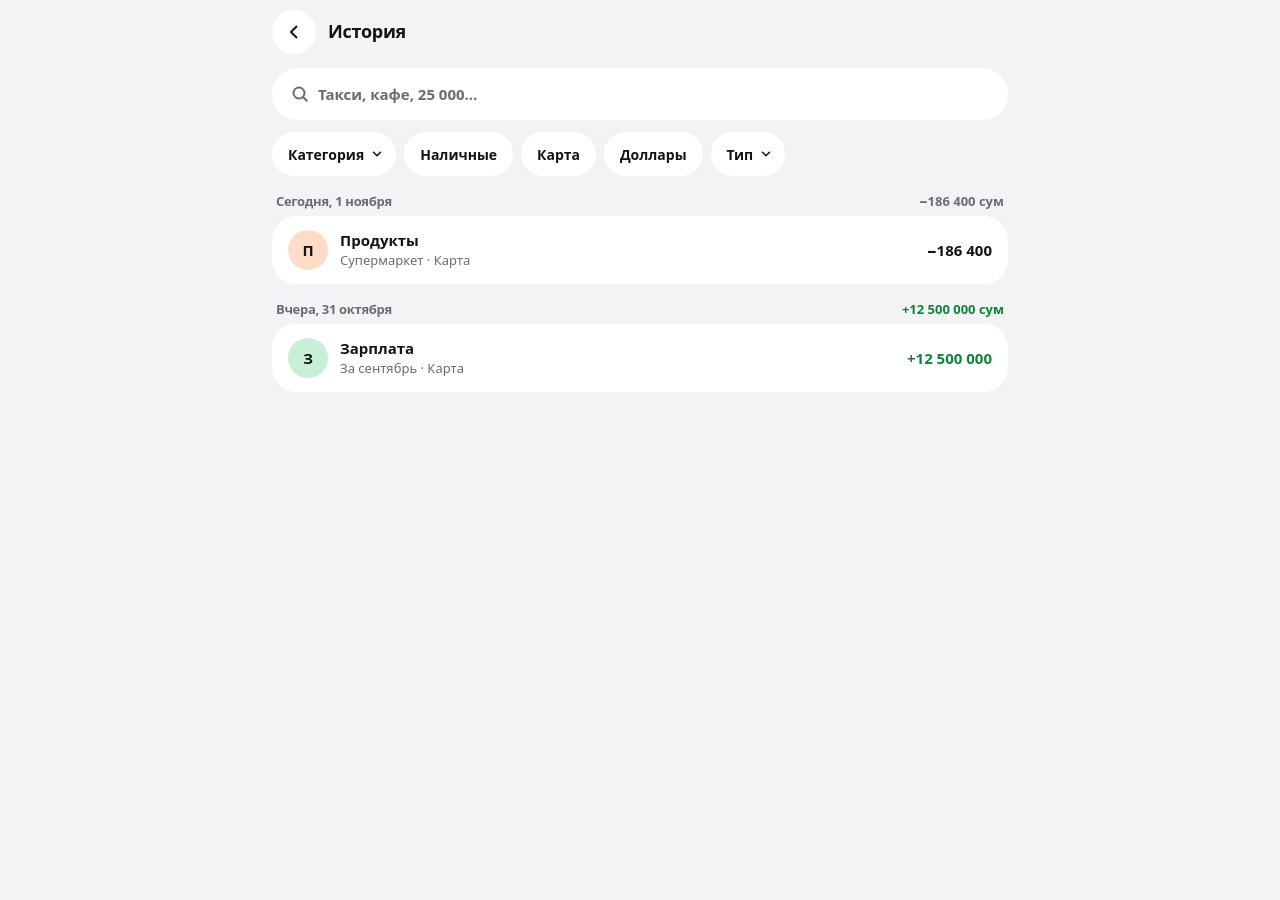
it: History › the type chip, last in the row, opens «Все / Расходы / Доходы»; the choice goes to the server and shows on the chip
What coordinates should you click on to do the following:
click the button "Тип"
I would click on:
 (748, 154)
Its box is [710, 132, 785, 176].
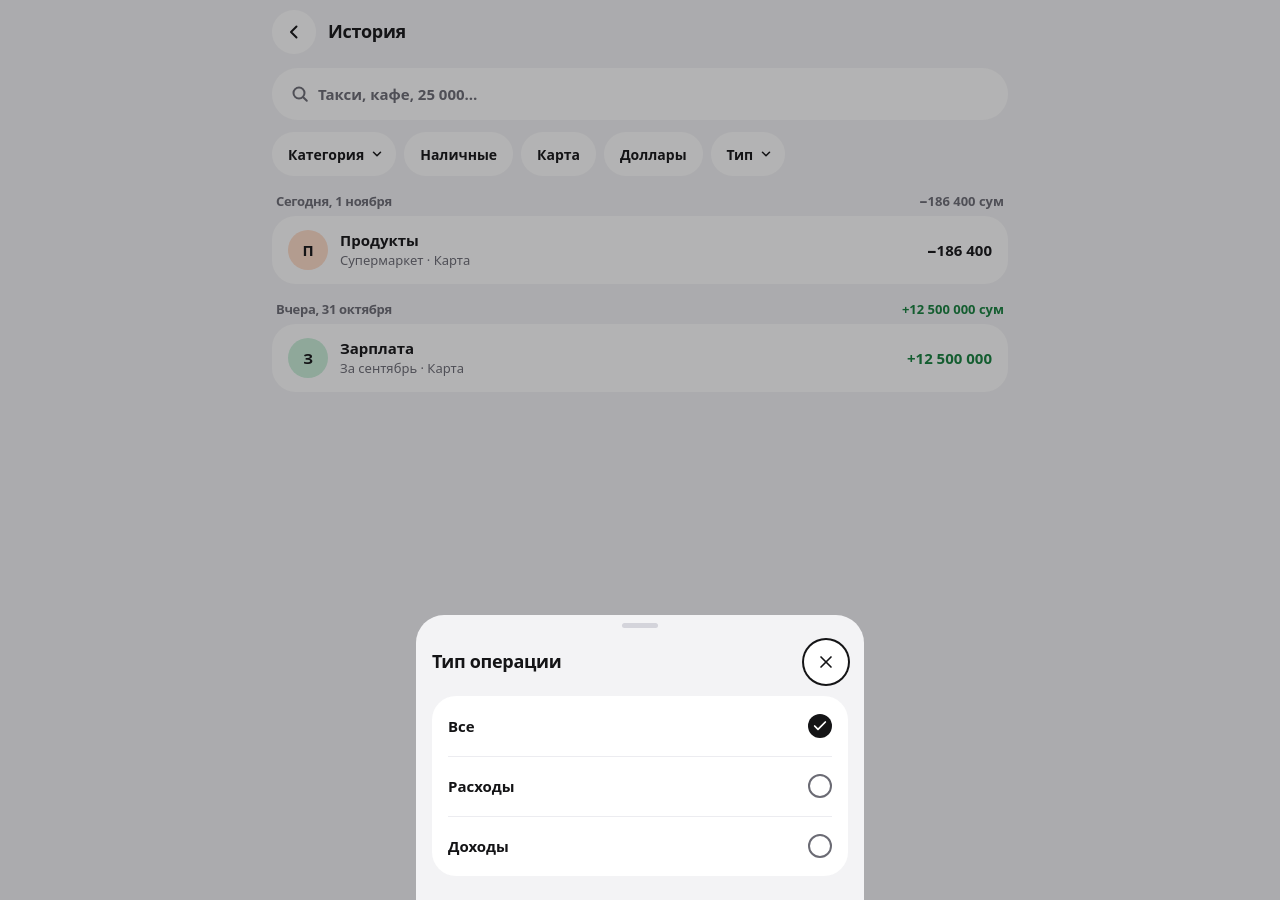
What coordinates should you click on to do the following:
click the radio button labelled "Доходы"
I would click on:
 (478, 846)
Its box is [432, 816, 848, 876].
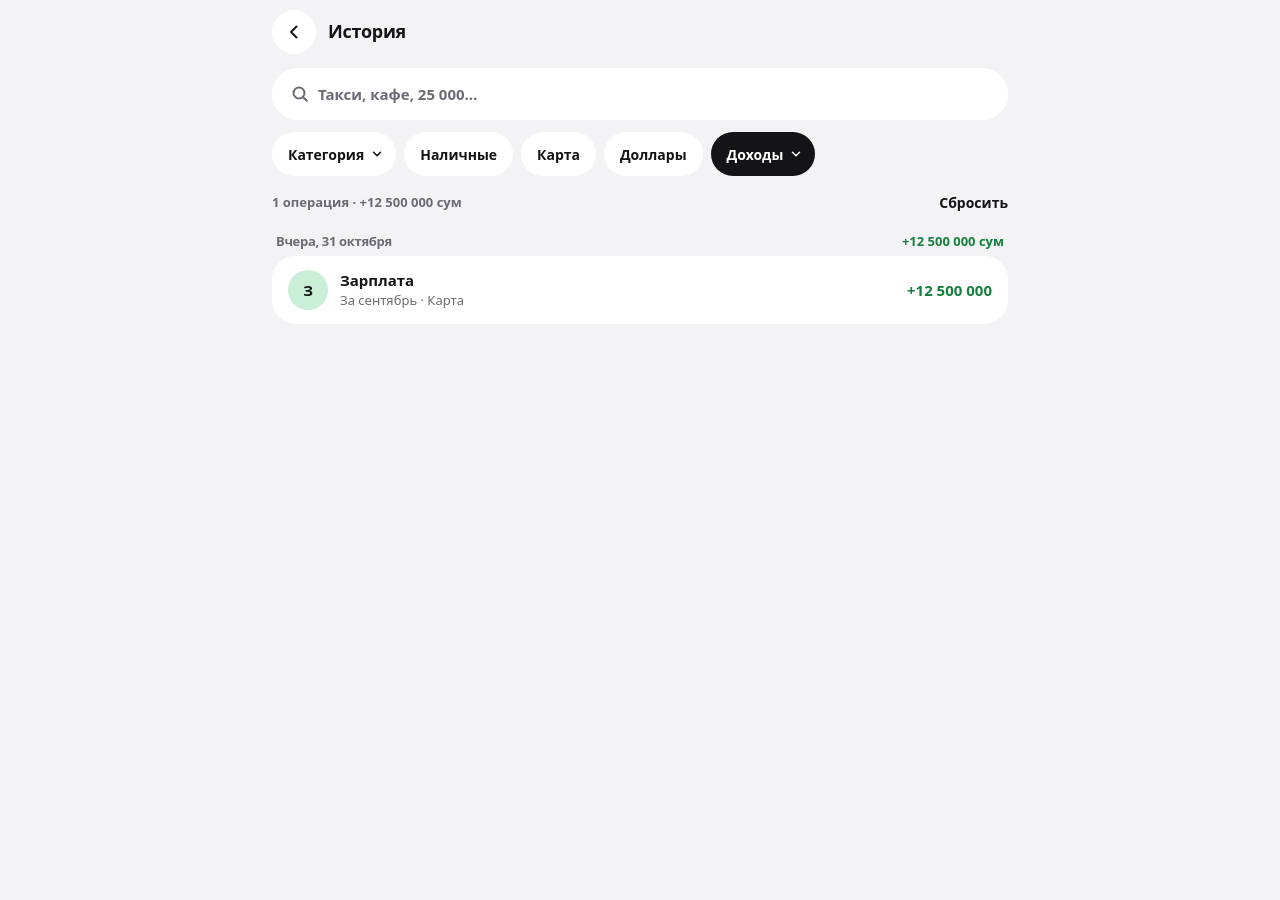
Expected: the button "Доходы" is shown, [710, 132, 815, 176]
Expected: the text "Супермаркет" is gone
What coordinates should you click on to do the following:
click the button "Сбросить"
I would click on:
 (974, 202)
Its box is [929, 180, 1018, 224].
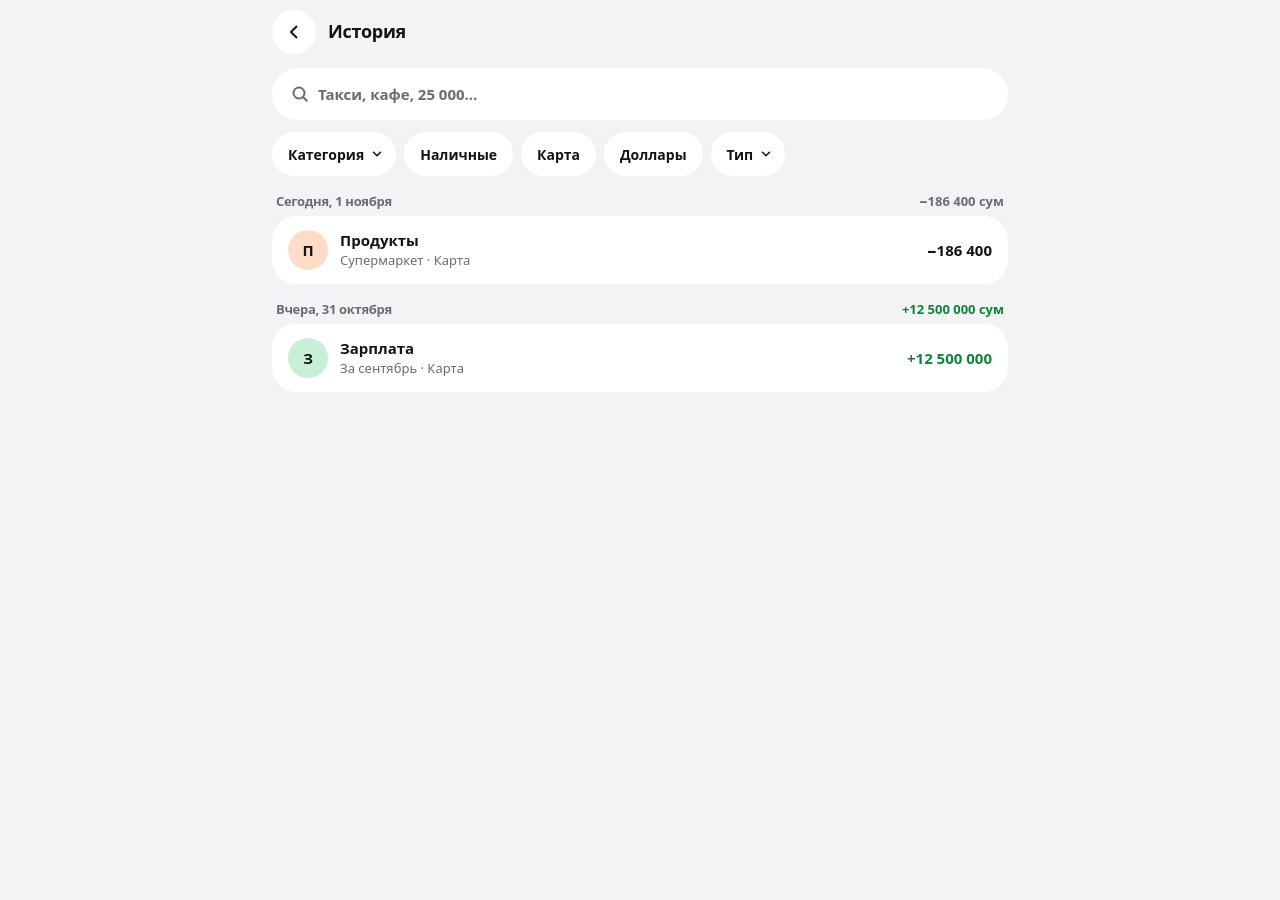
Expected: the button "Тип" is shown, [710, 132, 785, 176]
